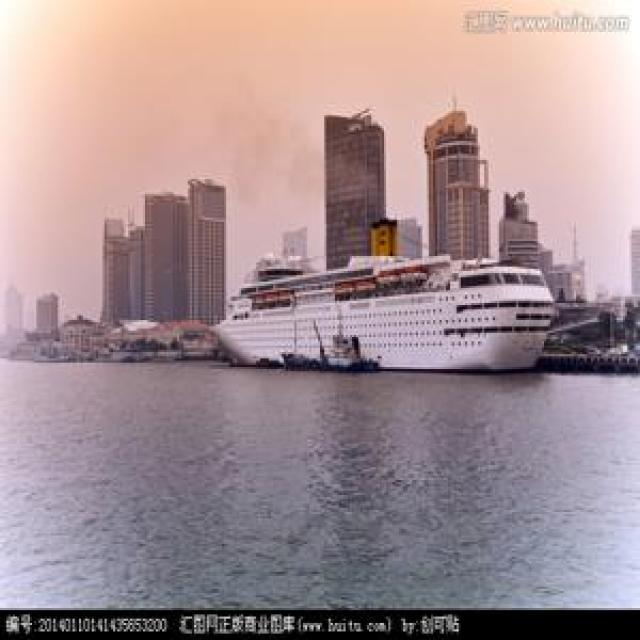passenger ship: (220, 234, 547, 371)
